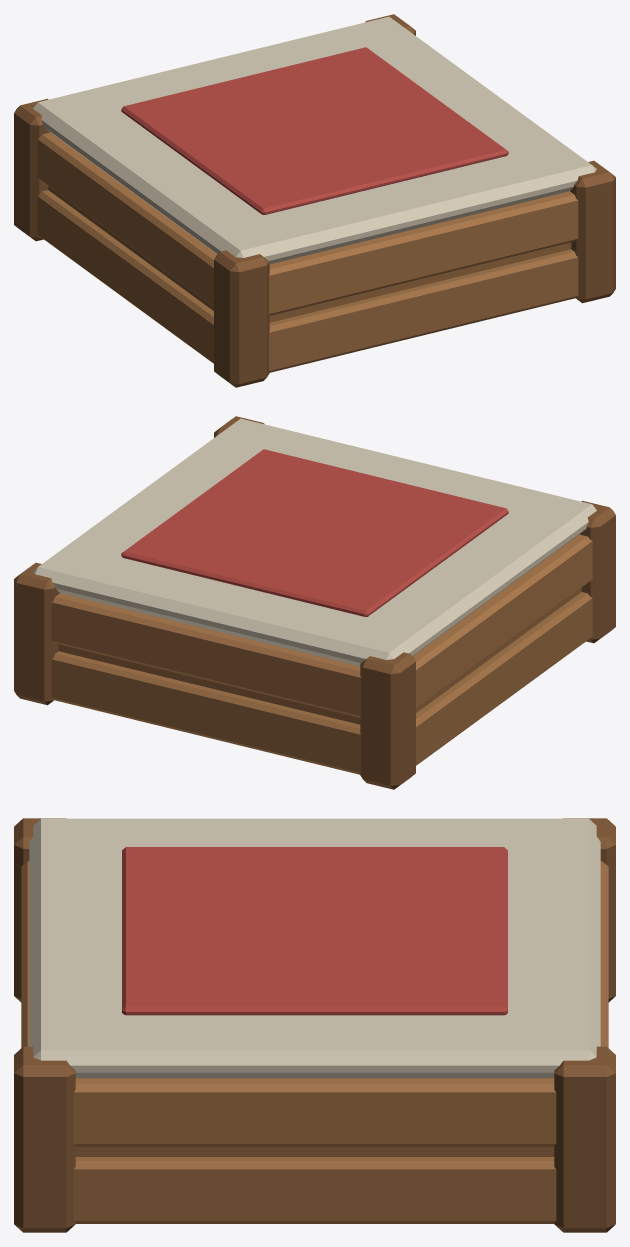
File: phoenix_pad_crate.fbx
3 views of the same model, one above another, from view 1: azimuth 30°, elevation 25°; view 2: azimuth 150°, elevation 25°; view 3: azimuth 270°, elevation 25° (orthographic). The views are drawn at different scales.
Visible parts, largest first — view 1: phoenix_pad_crate; view 2: phoenix_pad_crate; view 3: phoenix_pad_crate.
Part boxes in pixels (x1=…): phoenix_pad_crate: x1=14, y1=14, x2=615, y2=387; phoenix_pad_crate: x1=14, y1=416, x2=615, y2=789; phoenix_pad_crate: x1=14, y1=818, x2=615, y2=1232.
Bounding box in the file's own units: 7.8 × 2.61 × 7.8.
